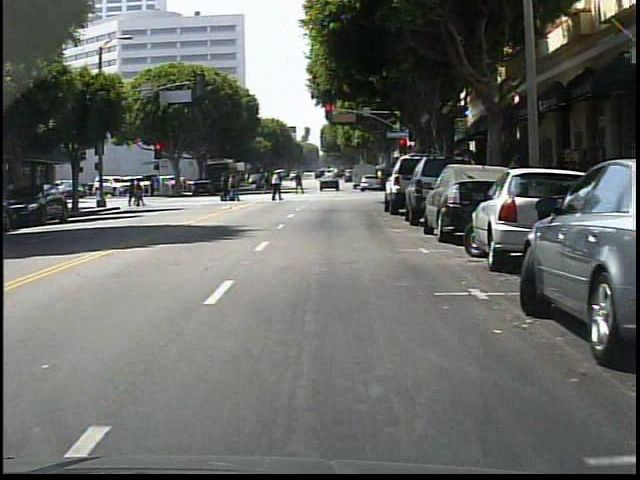person: (265, 168, 287, 206), (290, 168, 307, 198)
